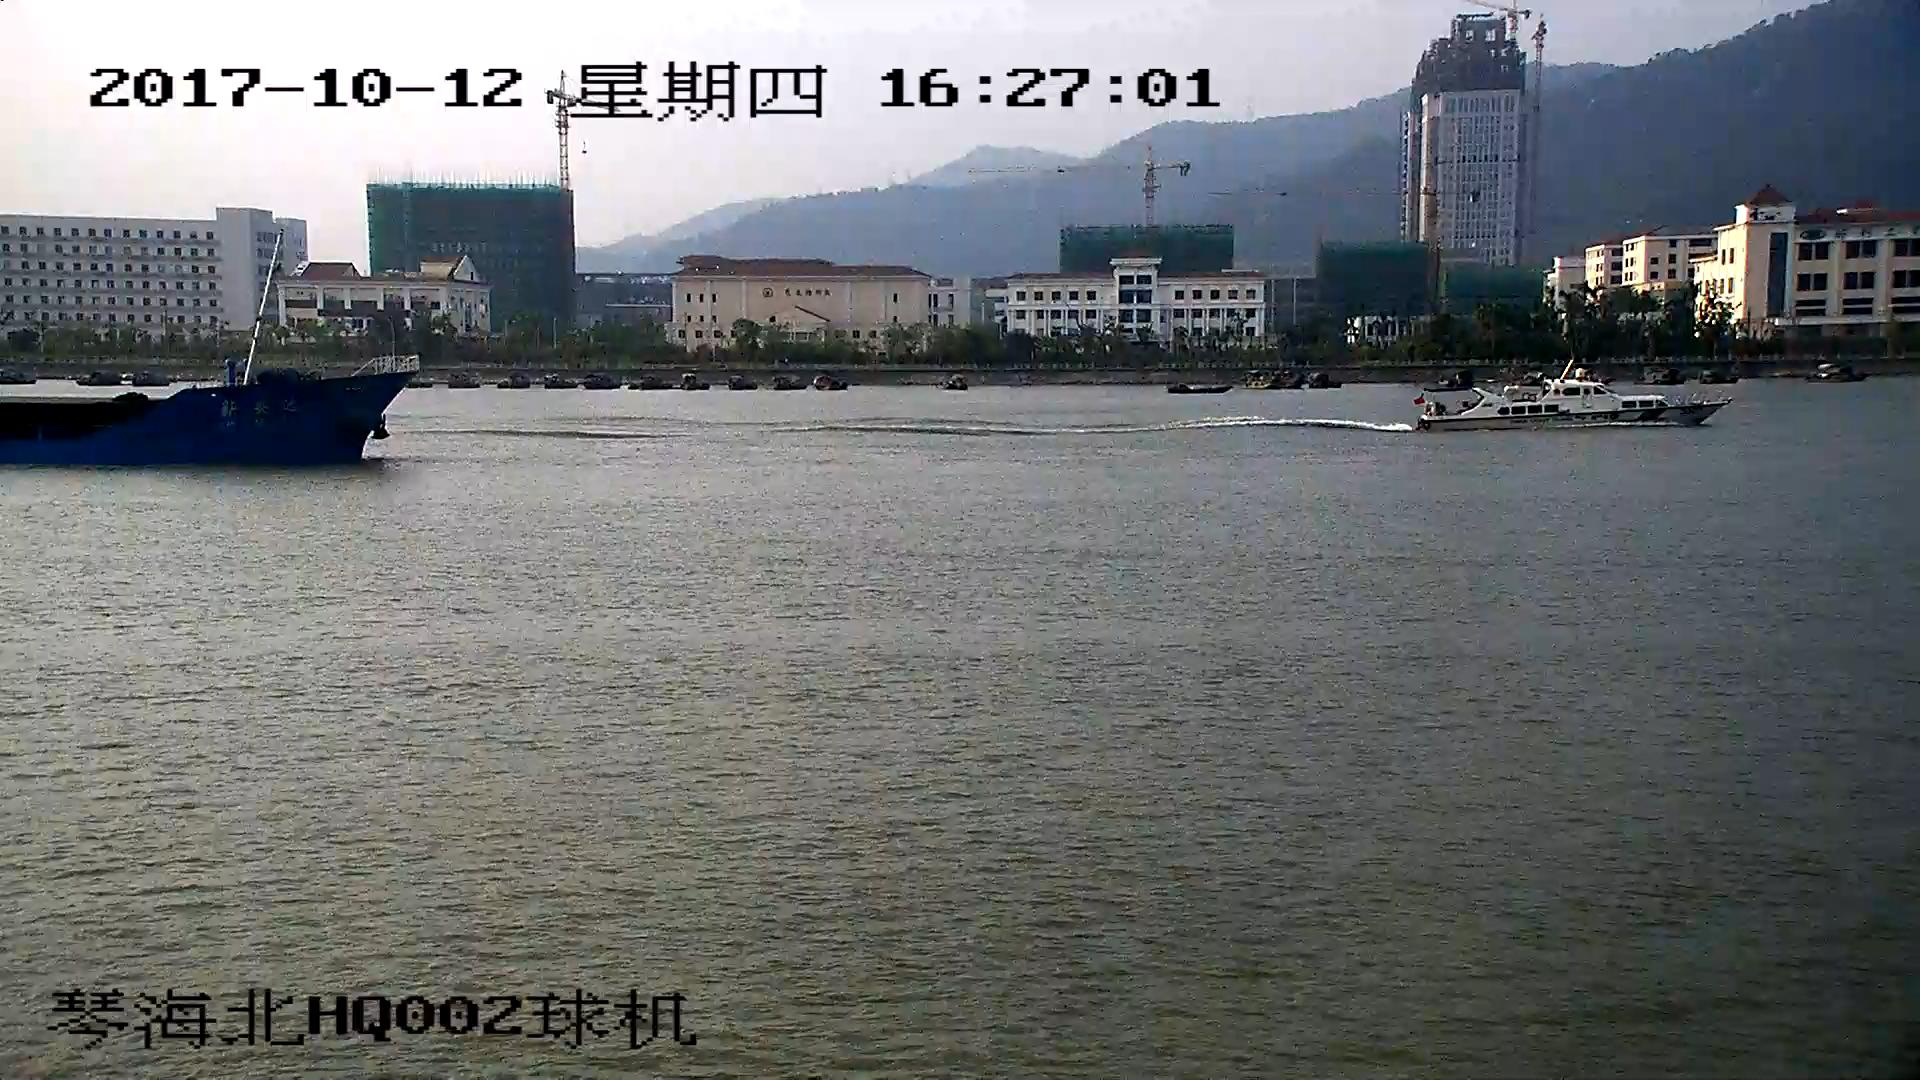bulk cargo carrier: (1, 335, 424, 465)
passenger ship: (1418, 371, 1722, 434)
